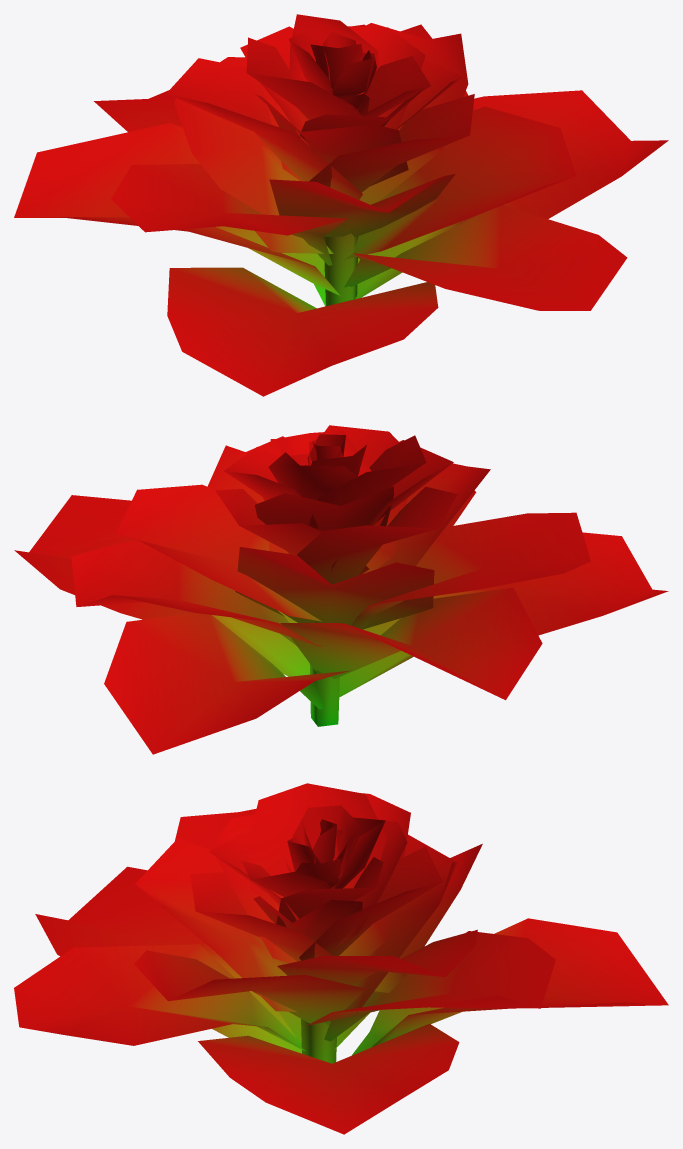
Rendered from Purple Ornamental Kale_LOD4_Var9_ugdieawja.fbx.
3 renders of one model, top to bottom at view 1: azimuth 30°, elevation 25°; view 2: azimuth 150°, elevation 25°; view 3: azimuth 270°, elevation 25°, orthographic. The views are drawn at different scales.
Visible parts, largest first — view 1: _f71a_Var9_LOD4; view 2: _f71a_Var9_LOD4; view 3: _f71a_Var9_LOD4.
Part boxes in pixels (x1,y1,x2,y2): _f71a_Var9_LOD4: (14,14,668,396); _f71a_Var9_LOD4: (14,425,668,754); _f71a_Var9_LOD4: (14,783,668,1134).
Size of the model in its own units: 46.36 by 23.57 by 50.07.
